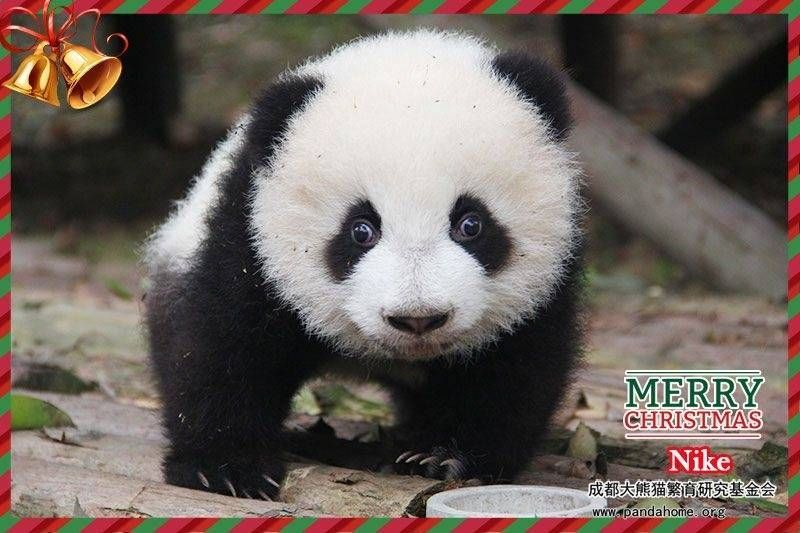panda: (109, 15, 610, 468)
